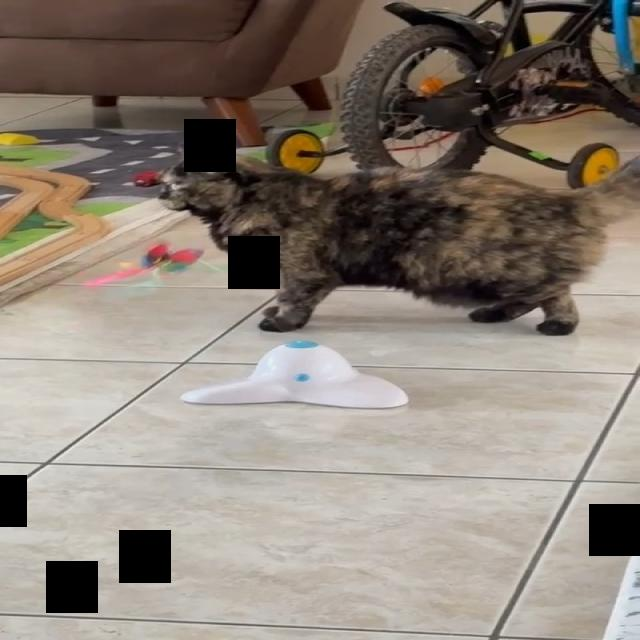authorized: (153, 141, 639, 336)
